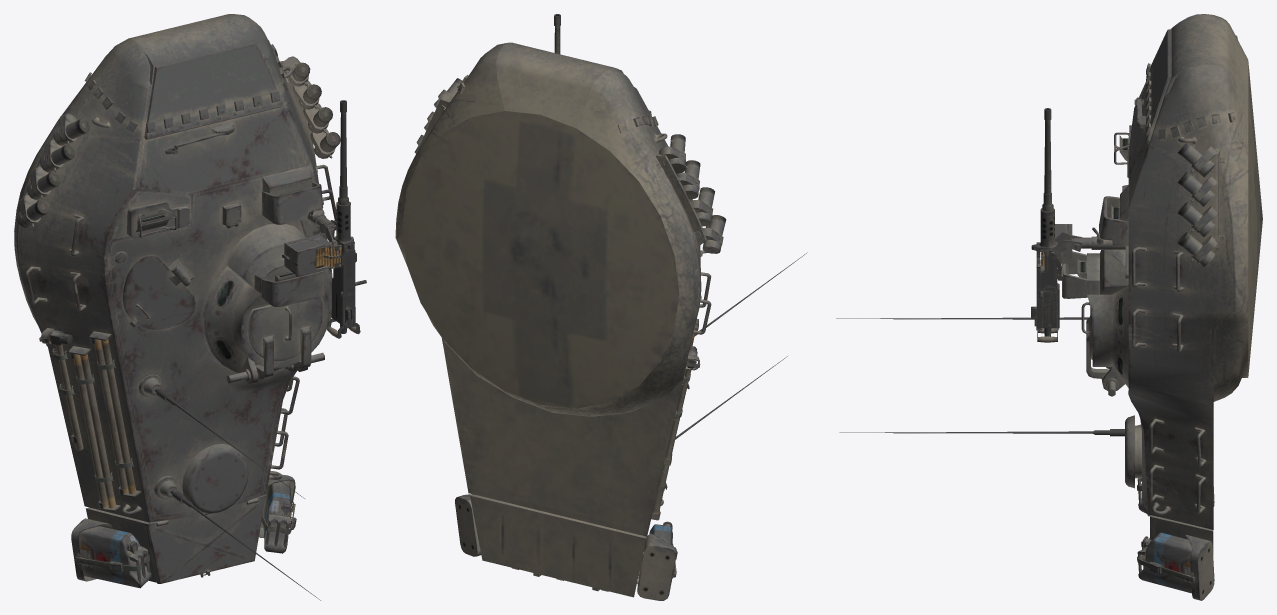
Rendered from Turret_01.glb.
3 renders of one model, left to right at view 1: azimuth 30°, elevation 25°; view 2: azimuth 150°, elevation 25°; view 3: azimuth 270°, elevation 25°, orthographic.
Visible parts, largest first — view 1: set_0_group_0; view 2: set_0_group_0; view 3: set_0_group_0.
Part boxes in pixels (x1=…): set_0_group_0: x1=14, y1=14, x2=366, y2=600; set_0_group_0: x1=395, y1=14, x2=807, y2=600; set_0_group_0: x1=836, y1=14, x2=1262, y2=600.
Bounding box in the file's own units: 2.34 × 3.78 × 2.8.
1 material, 1 textured.
